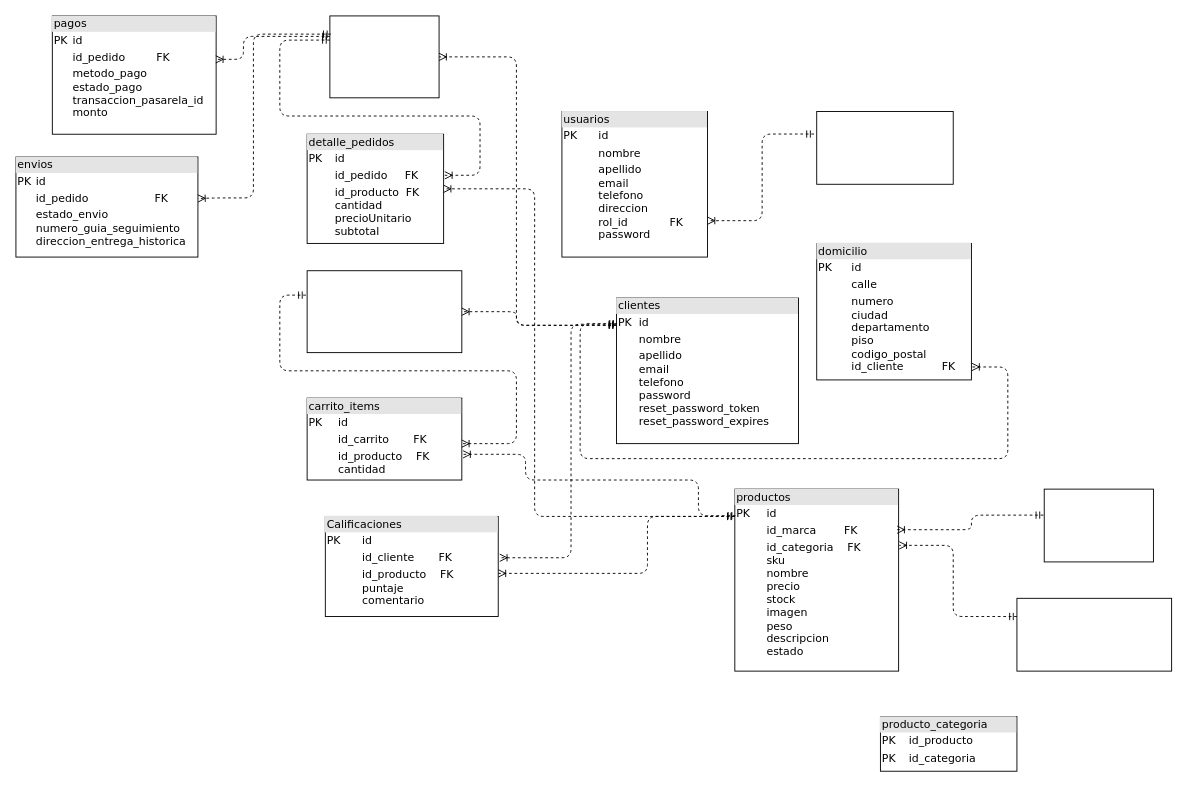
The diagram is 1188 pixels wide and 787 high, and some of its shapes have lost their labels. Each missing label, with the centre of its shape:
carritos PK id id_cliente FK nombre_carrito estado: point 384,311
categorias PK id nombre descripcion: point 1094,634
marcas PK id nombre estado: point 1098,525
pedidos PK id id_cliente FK estado total: point 384,56
roles PK id nombre descripcion: point 884,147
